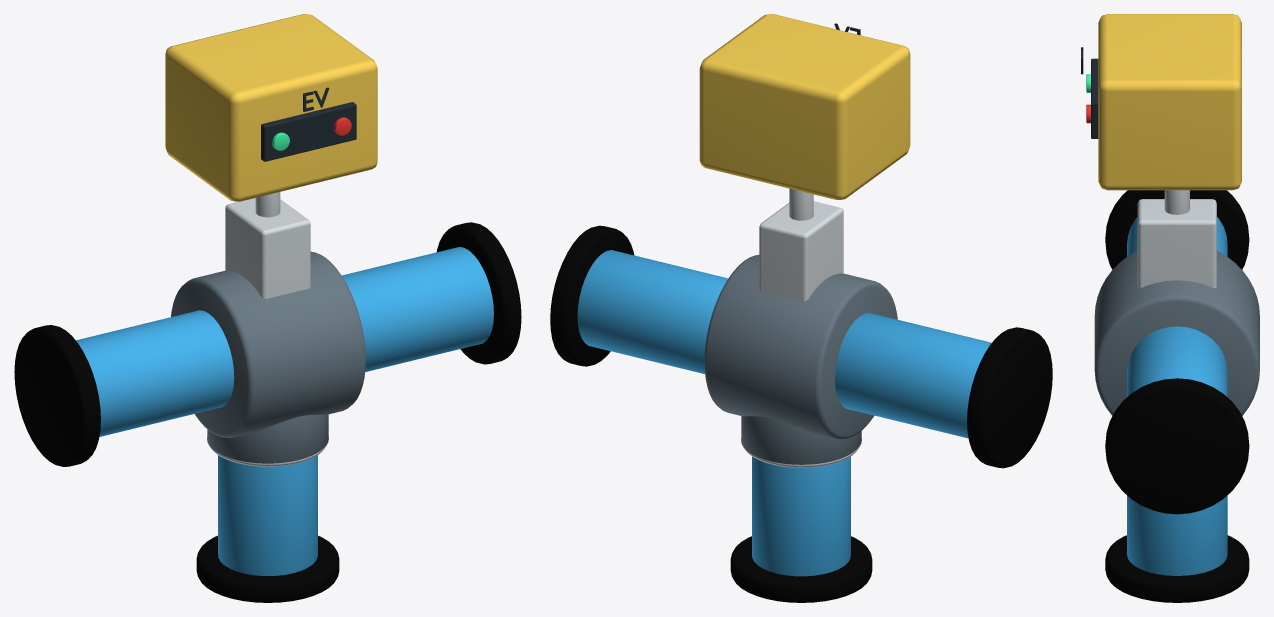
The model's file is three-way-valve.glb.
3 renders of one model, left to right at view 1: azimuth 30°, elevation 25°; view 2: azimuth 150°, elevation 25°; view 3: azimuth 270°, elevation 25°, orthographic.
Visible parts, largest first — view 1: three-way valve actuator box, three-way valve round body, three-way valve left short interface sleeve, three-way valve right short interface sleeve, three-way valve bottom short interface sleeve, three-way valve left dark flange gasket, three-way valve stem yoke, three-way valve right dark flange gasket, three-way valve bottom dark flange gasket, three-way valve bottom branch neck, three-way valve black status window; view 2: three-way valve actuator box, three-way valve round body, three-way valve left short interface sleeve, three-way valve right short interface sleeve, three-way valve bottom short interface sleeve, three-way valve left dark flange gasket, three-way valve stem yoke, three-way valve right dark flange gasket, three-way valve bottom dark flange gasket, three-way valve bottom branch neck, three-way valve vertical shaft; view 3: three-way valve actuator box, three-way valve right dark flange gasket, three-way valve round body, three-way valve bottom short interface sleeve, three-way valve stem yoke, three-way valve bottom dark flange gasket, three-way valve right short interface sleeve, three-way valve left dark flange gasket, three-way valve black status window, three-way valve left short interface sleeve, three-way valve vertical shaft.
Part boxes in pixels (bbox=[...]): three-way valve actuator box: bbox=[165, 14, 377, 201]; three-way valve round body: bbox=[171, 251, 365, 438]; three-way valve left short interface sleeve: bbox=[76, 310, 234, 436]; three-way valve right short interface sleeve: bbox=[342, 247, 493, 371]; three-way valve bottom short interface sleeve: bbox=[218, 455, 317, 575]; three-way valve left dark flange gasket: bbox=[14, 325, 100, 466]; three-way valve stem yoke: bbox=[225, 198, 310, 298]; three-way valve right dark flange gasket: bbox=[436, 222, 521, 364]; three-way valve bottom dark flange gasket: bbox=[196, 535, 339, 602]; three-way valve bottom branch neck: bbox=[207, 414, 328, 463]; three-way valve black status window: bbox=[261, 102, 356, 161]; three-way valve actuator box: bbox=[699, 14, 910, 199]; three-way valve round body: bbox=[704, 254, 897, 439]; three-way valve left short interface sleeve: bbox=[835, 313, 991, 438]; three-way valve right short interface sleeve: bbox=[577, 250, 728, 373]; three-way valve bottom short interface sleeve: bbox=[752, 456, 850, 576]; three-way valve left dark flange gasket: bbox=[967, 327, 1052, 468]; three-way valve stem yoke: bbox=[759, 201, 843, 301]; three-way valve right dark flange gasket: bbox=[550, 225, 634, 366]; three-way valve bottom dark flange gasket: bbox=[730, 536, 872, 602]; three-way valve bottom branch neck: bbox=[741, 416, 861, 464]; three-way valve vertical shaft: bbox=[789, 188, 813, 220]; three-way valve actuator box: bbox=[1098, 14, 1241, 190]; three-way valve right dark flange gasket: bbox=[1105, 378, 1249, 514]; three-way valve round body: bbox=[1094, 251, 1259, 415]; three-way valve bottom short interface sleeve: bbox=[1127, 495, 1227, 575]; three-way valve stem yoke: bbox=[1137, 199, 1216, 288]; three-way valve bottom dark flange gasket: bbox=[1105, 535, 1249, 602]; three-way valve right short interface sleeve: bbox=[1127, 326, 1227, 396]; three-way valve left dark flange gasket: bbox=[1105, 190, 1249, 269]; three-way valve black status window: bbox=[1091, 58, 1098, 138]; three-way valve left short interface sleeve: bbox=[1127, 217, 1227, 256]; three-way valve vertical shaft: bbox=[1164, 190, 1189, 214].
Size of the model in its own units: 1.42 by 1.62 by 0.498.
